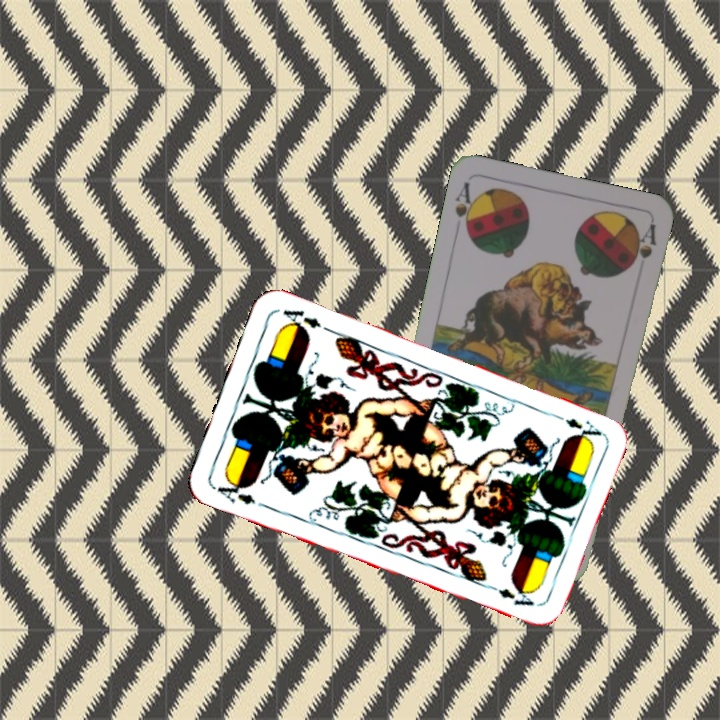EA: (547, 409, 604, 445), (209, 474, 258, 508)
SA: (451, 177, 480, 239)
